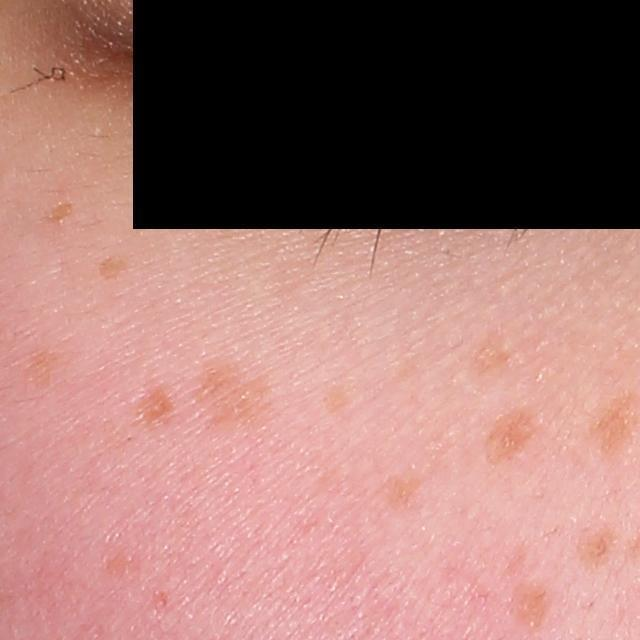melasma: (189, 365, 279, 445), (597, 387, 632, 475), (484, 415, 537, 473), (121, 369, 168, 431), (504, 585, 553, 640), (573, 516, 620, 570), (462, 322, 502, 382), (369, 477, 427, 515), (17, 348, 55, 389), (34, 201, 76, 231), (91, 255, 138, 281)
